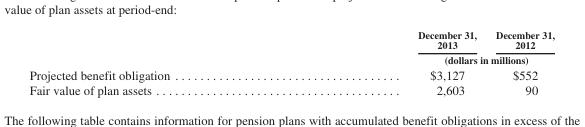table: (28, 28, 553, 96)
table column: (28, 28, 293, 96), (293, 28, 485, 96), (485, 28, 553, 96)
table column header: (28, 28, 553, 66)
table row: (28, 28, 553, 52), (28, 66, 553, 81), (28, 81, 553, 96), (28, 52, 553, 66)
table spanning cell: (293, 52, 553, 66)
